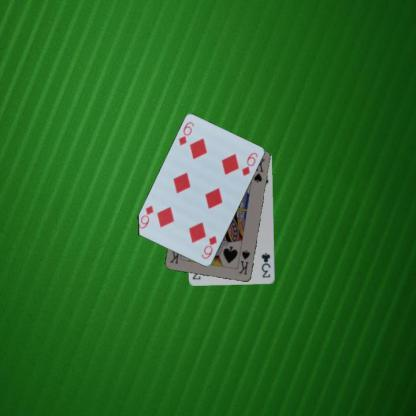3c: (258, 250, 272, 279)
6d: (198, 233, 219, 260), (177, 120, 196, 148)
Ks: (236, 247, 252, 276)
